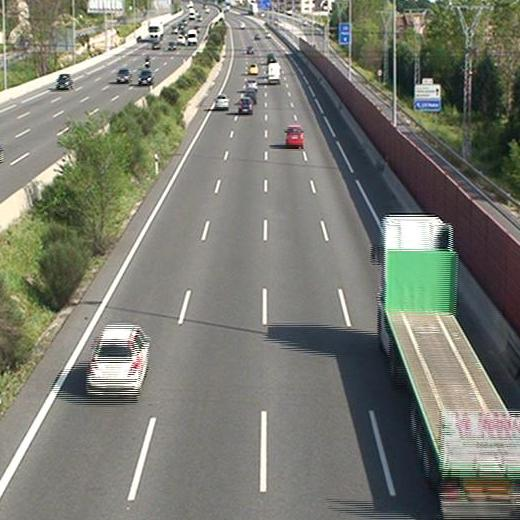car: (88, 324, 148, 394), (286, 125, 304, 146), (238, 98, 253, 113), (215, 95, 229, 109), (244, 80, 258, 90), (247, 63, 258, 75)
truck: (380, 218, 520, 514)
van: (268, 63, 281, 83)
